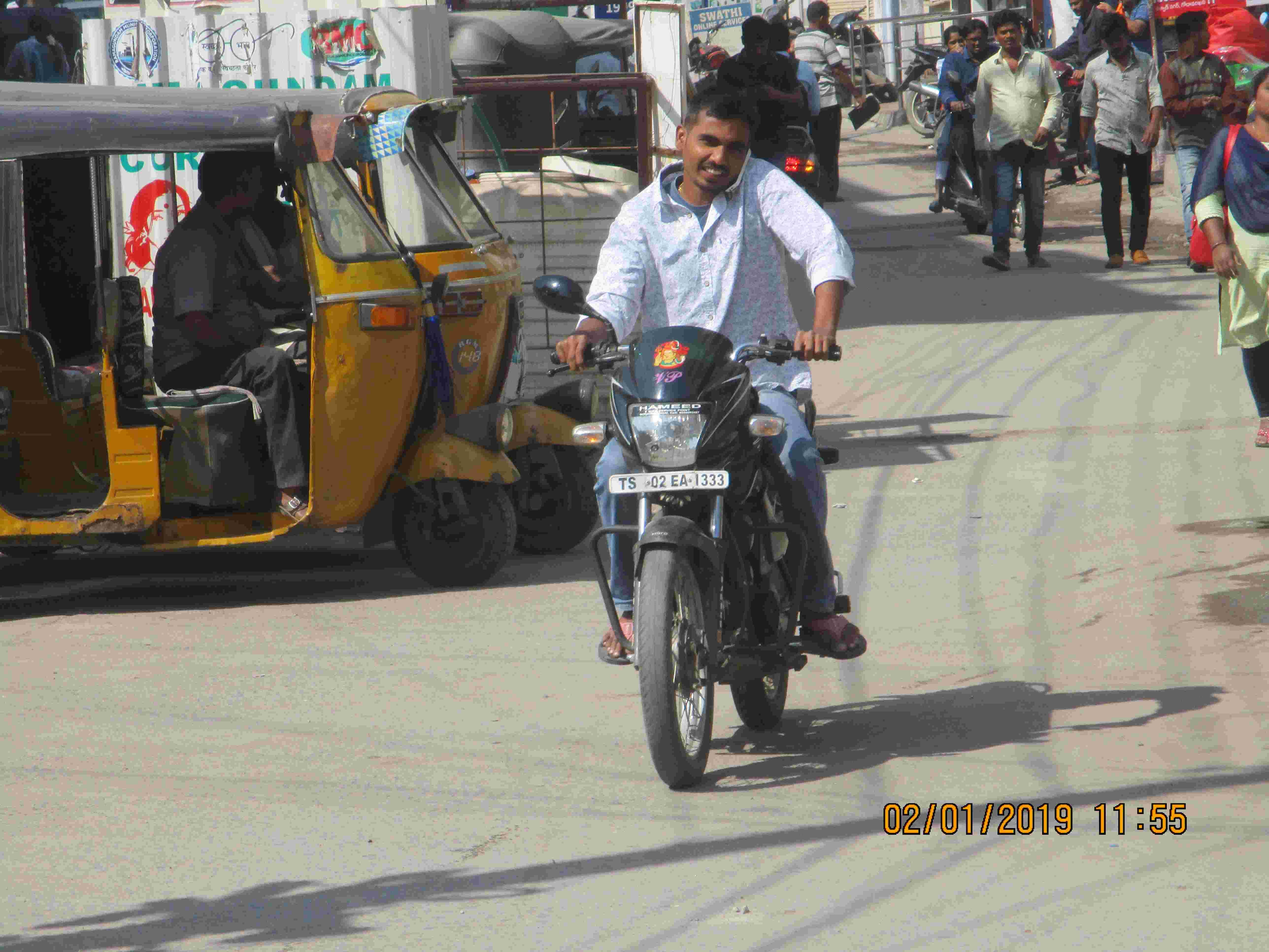plate: (600, 464, 736, 496)
